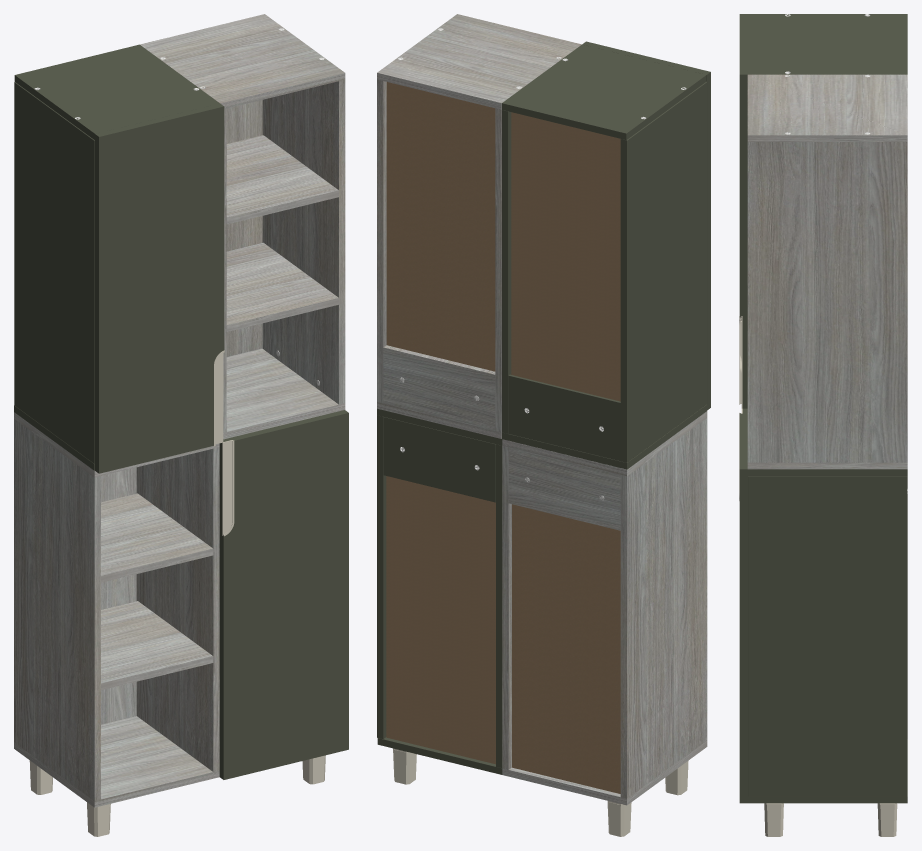
3 renders of one model, left to right at view 1: azimuth 30°, elevation 25°; view 2: azimuth 150°, elevation 25°; view 3: azimuth 270°, elevation 25°, orthographic.
Visible parts, largest first — view 1: Cube.001, Cube.005, Cube.002, Cube.003, group_0.115; view 2: Cube.005, Cube.001, Cube.002, group_0.001, group_0.090, Cube.003, group_0.115; view 3: Cube.002, Cube.003, Cube.001, group_0.115.
Part boxes in pixels (bbox=[...]): Cube.001: bbox=[14, 44, 224, 473]; Cube.005: bbox=[14, 412, 219, 807]; Cube.002: bbox=[140, 14, 345, 439]; Cube.003: bbox=[219, 410, 348, 779]; group_0.115: bbox=[29, 350, 325, 836]; Cube.005: bbox=[502, 411, 707, 805]; Cube.001: bbox=[502, 41, 710, 469]; Cube.002: bbox=[377, 14, 581, 438]; group_0.001: bbox=[511, 112, 620, 401]; group_0.090: bbox=[386, 476, 495, 764]; Cube.003: bbox=[377, 408, 502, 774]; group_0.115: bbox=[393, 748, 688, 836]; Cube.002: bbox=[747, 74, 907, 469]; Cube.003: bbox=[739, 408, 907, 803]; Cube.001: bbox=[739, 14, 907, 408]; group_0.115: bbox=[739, 316, 897, 836].
Size of the model in its own units: 0.7014 by 1.9 by 0.4113.
Materials: 5 (2 with a texture image).
